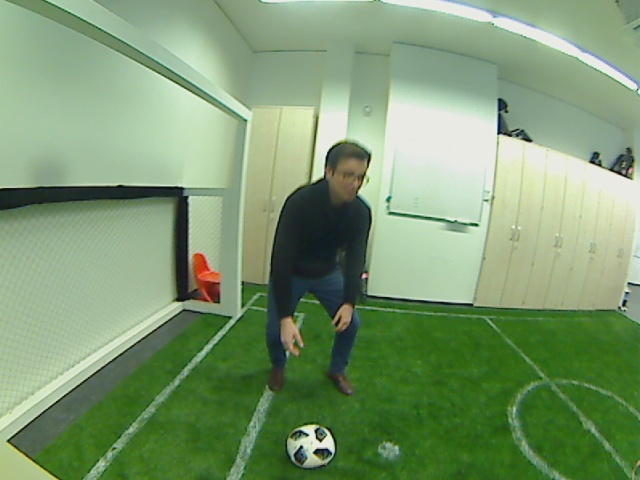ball: (285, 423, 335, 469)
